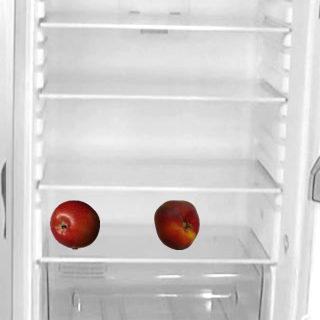Apple Braeburn: (49, 199, 99, 249)
Nectarine Flat: (151, 199, 201, 249)
